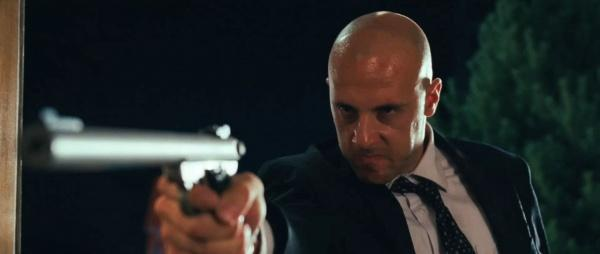Gun: (37, 111, 238, 192)
